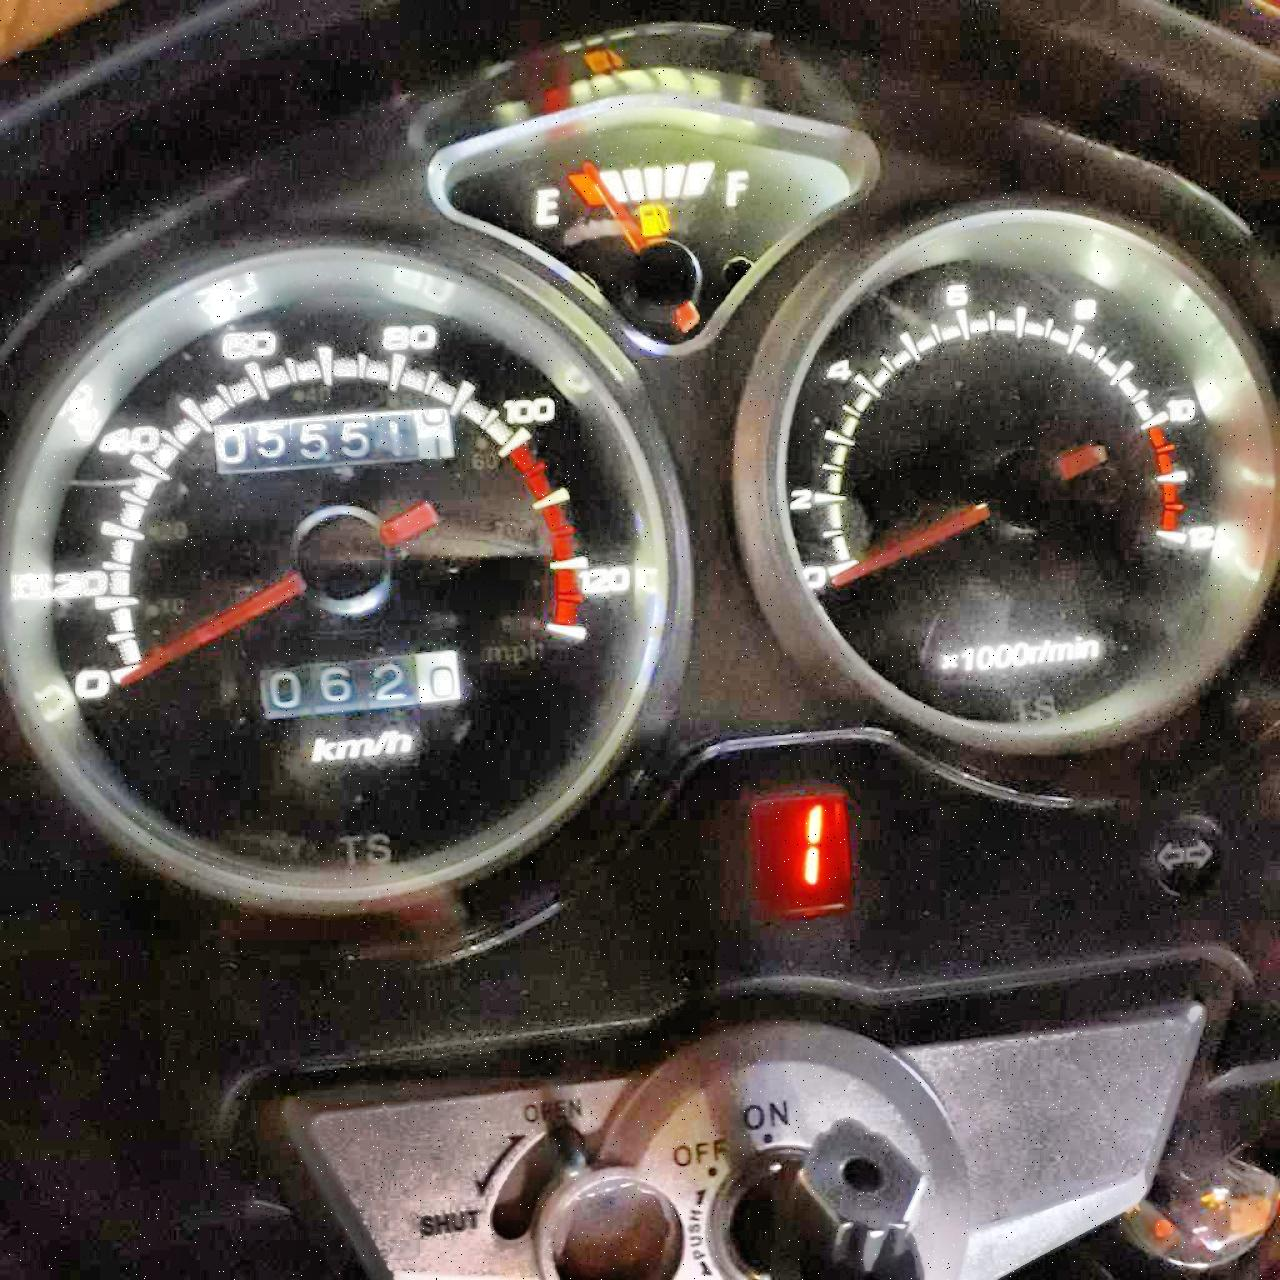0: (216, 425, 246, 464)
1: (387, 420, 402, 456), (431, 435, 441, 459)
5: (339, 420, 369, 456), (298, 422, 328, 457), (256, 422, 284, 457)
odometer: (212, 406, 456, 475)
